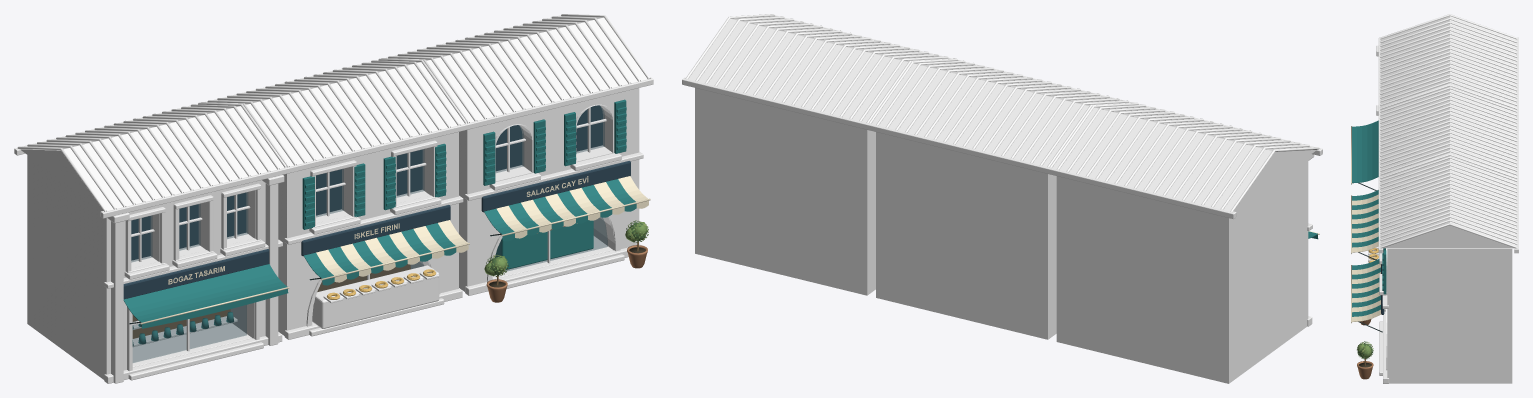
The model's file is DistrictBlock_7_0.glb.
The picture shows the model from 3 angles, left to right: view 1: azimuth 30°, elevation 25°; view 2: azimuth 150°, elevation 25°; view 3: azimuth 270°, elevation 25°; orthographic projection. The views are drawn at different scales.
Visible parts, largest first — view 1: RK_DistrictBlock_7_0_LC_Tile, RK_DistrictBlock_7_0_LC_Wood, RK_DistrictBlock_7_0_LC_Lime, RK_DistrictBlock_7_0_LC_Cream, RK_DistrictBlock_7_0_LC_Teal, RK_DistrictBlock_7_0_LC_Ink, RK_DistrictBlock_7_0_LC_Glass, RK_DistrictBlock_7_0_LC_Canvas, RK_DistrictBlock_7_0_LC_Interior, RK_DistrictBlock_7_0_RK_Terracotta, RK_DistrictBlock_7_0_RK_Leaf, RK_DistrictBlock_7_0_LC_Gold; view 2: RK_DistrictBlock_7_0_LC_Cream, RK_DistrictBlock_7_0_LC_Tile, RK_DistrictBlock_7_0_LC_Wood; view 3: RK_DistrictBlock_7_0_LC_Tile, RK_DistrictBlock_7_0_LC_Cream, RK_DistrictBlock_7_0_LC_Teal, RK_DistrictBlock_7_0_LC_Canvas, RK_DistrictBlock_7_0_LC_Wood, RK_DistrictBlock_7_0_LC_Lime, RK_DistrictBlock_7_0_RK_Terracotta, RK_DistrictBlock_7_0_RK_Leaf.
Part boxes in pixels (x1,y1,x2,y2): RK_DistrictBlock_7_0_LC_Tile: [17, 14, 650, 211]; RK_DistrictBlock_7_0_LC_Wood: [14, 15, 653, 379]; RK_DistrictBlock_7_0_LC_Lime: [104, 104, 643, 383]; RK_DistrictBlock_7_0_LC_Cream: [278, 88, 639, 335]; RK_DistrictBlock_7_0_LC_Teal: [123, 99, 636, 346]; RK_DistrictBlock_7_0_LC_Ink: [123, 105, 630, 299]; RK_DistrictBlock_7_0_LC_Glass: [131, 105, 607, 362]; RK_DistrictBlock_7_0_LC_Canvas: [140, 176, 650, 324]; RK_DistrictBlock_7_0_LC_Interior: [132, 264, 410, 338]; RK_DistrictBlock_7_0_RK_Terracotta: [486, 245, 647, 302]; RK_DistrictBlock_7_0_RK_Leaf: [484, 220, 648, 276]; RK_DistrictBlock_7_0_LC_Gold: [327, 269, 436, 299]; RK_DistrictBlock_7_0_LC_Cream: [695, 88, 1056, 339]; RK_DistrictBlock_7_0_LC_Tile: [685, 14, 1319, 212]; RK_DistrictBlock_7_0_LC_Wood: [682, 15, 1322, 383]; RK_DistrictBlock_7_0_LC_Tile: [1379, 14, 1517, 248]; RK_DistrictBlock_7_0_LC_Cream: [1387, 248, 1512, 383]; RK_DistrictBlock_7_0_LC_Teal: [1351, 120, 1386, 316]; RK_DistrictBlock_7_0_LC_Canvas: [1351, 126, 1381, 323]; RK_DistrictBlock_7_0_LC_Wood: [1378, 37, 1518, 255]; RK_DistrictBlock_7_0_LC_Lime: [1368, 45, 1389, 383]; RK_DistrictBlock_7_0_RK_Terracotta: [1357, 319, 1373, 379]; RK_DistrictBlock_7_0_RK_Leaf: [1357, 342, 1372, 359].
Size of the model in its own units: 19.23 by 6.88 by 6.44.
